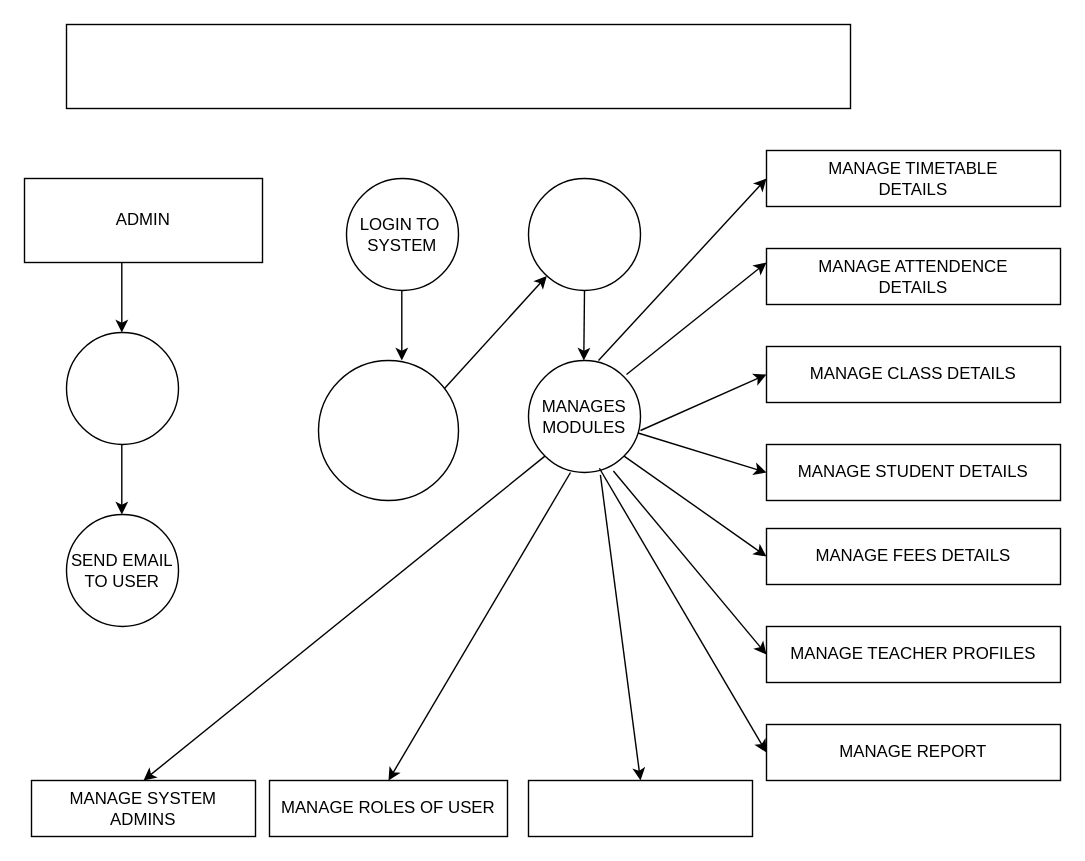
Some shapes in this 1085 by 861 pixel diagram are drawn without their labels. The shapes that lost their labels are listed below. From the top down, each one's centre as x and y in pixels, then its label:
(457,65): STUDENT INFORMATION SYSTEM
(583,233): CHECK ROLES OF ACCESS
(121,387): FORGOT PASSWORD
(387,429): CHECK CREDENTIAL
